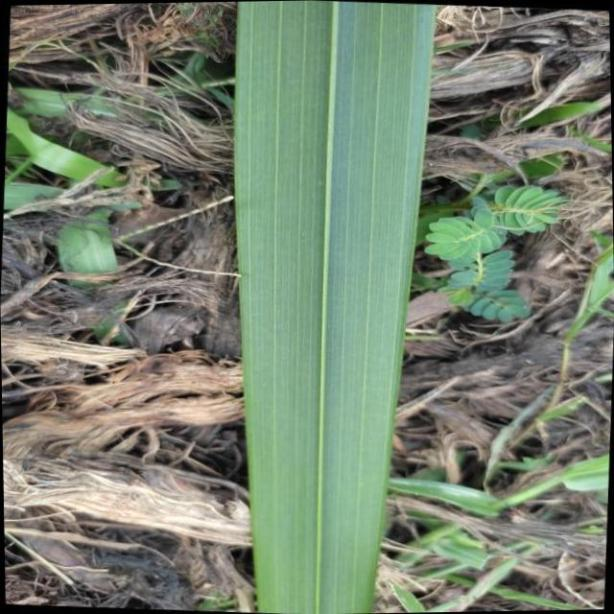Healthy: (235, 0, 435, 614)
